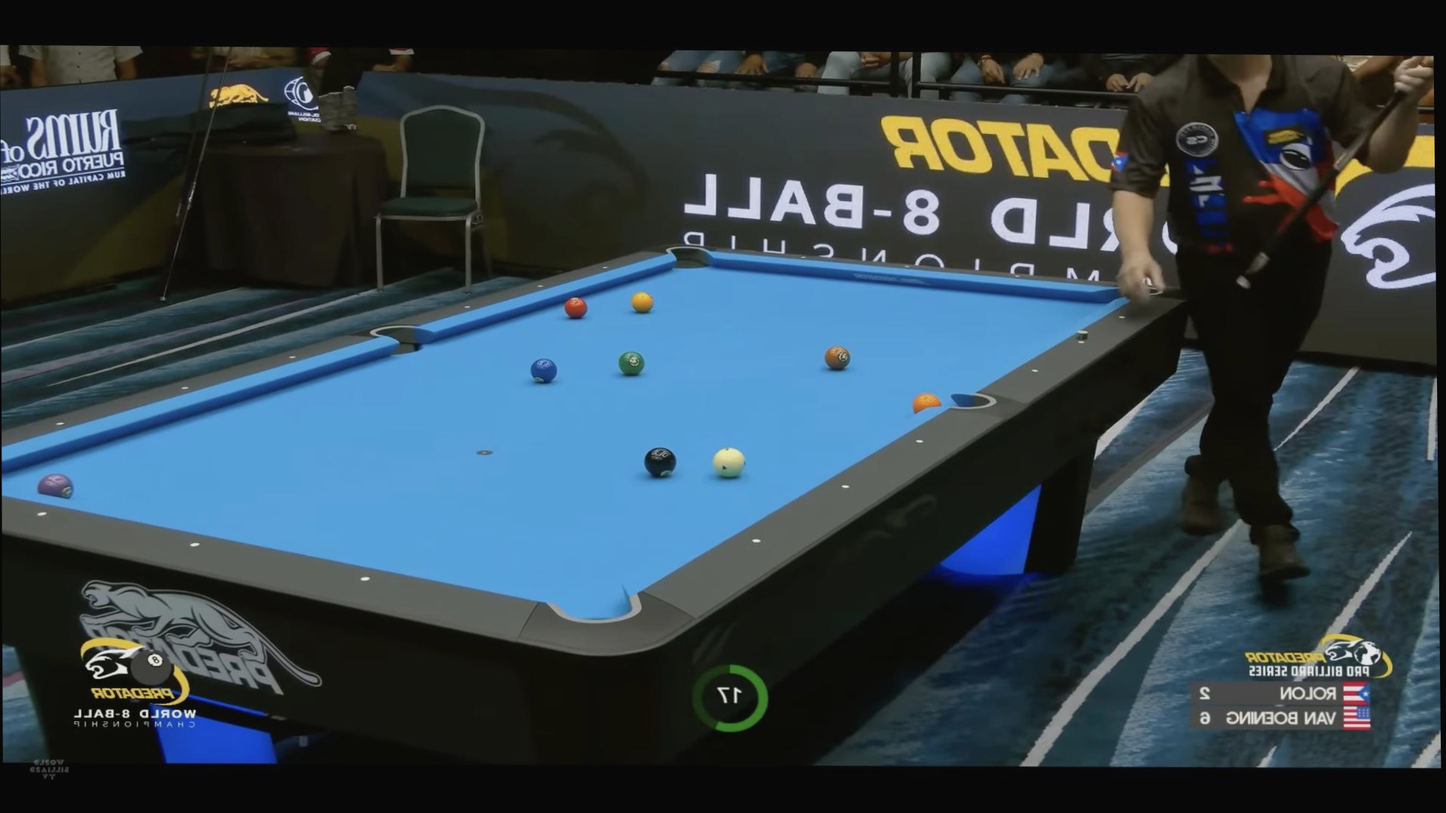Black: (750, 534, 763, 545), (839, 481, 852, 492), (912, 436, 925, 447), (189, 539, 201, 550), (36, 509, 48, 520), (359, 574, 371, 584), (54, 418, 66, 428), (463, 304, 471, 311), (536, 283, 544, 290), (601, 264, 609, 271), (1078, 339, 1085, 346), (1118, 314, 1125, 321), (181, 385, 188, 391), (289, 354, 296, 360), (1031, 368, 1038, 374), (801, 254, 807, 260), (1014, 274, 1020, 279), (904, 264, 910, 269)
Cue: (38, 474, 72, 499), (530, 358, 558, 383), (619, 351, 645, 375), (824, 345, 850, 369), (912, 394, 941, 415), (564, 297, 588, 318), (630, 292, 654, 312)
Solid: (644, 446, 677, 477)
Stripe: (713, 447, 746, 478)
